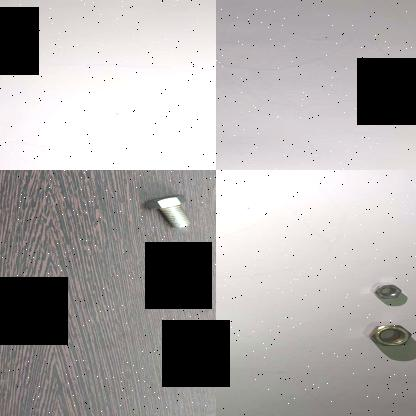Bolts: (142, 189, 200, 231)
NUTS: (363, 321, 416, 347), (372, 280, 404, 300)
